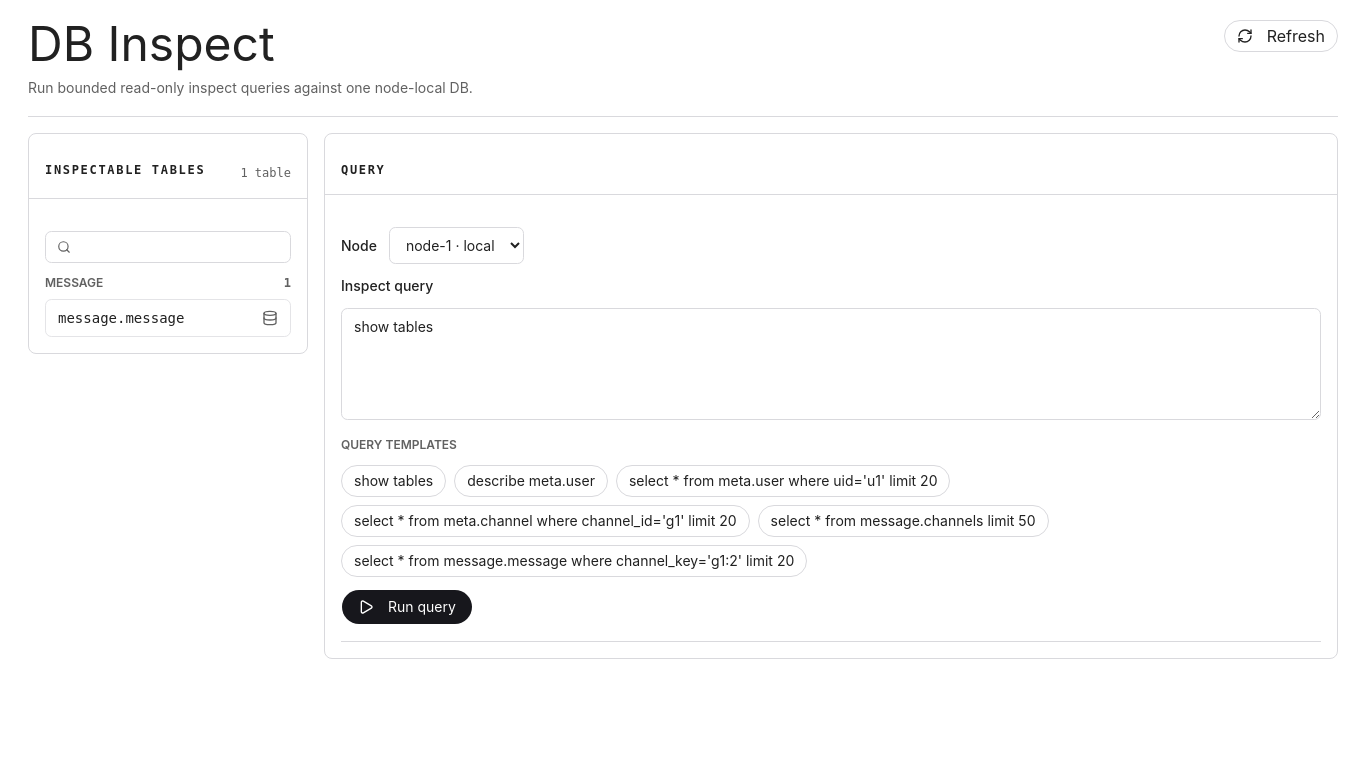
Test: describes a selected table
What coordinates should you click on to do the following:
click the button with aria-label "Inspect message.message"
I would click on:
 (168, 318)
Its box is [45,299,291,337].
(page scrolled)
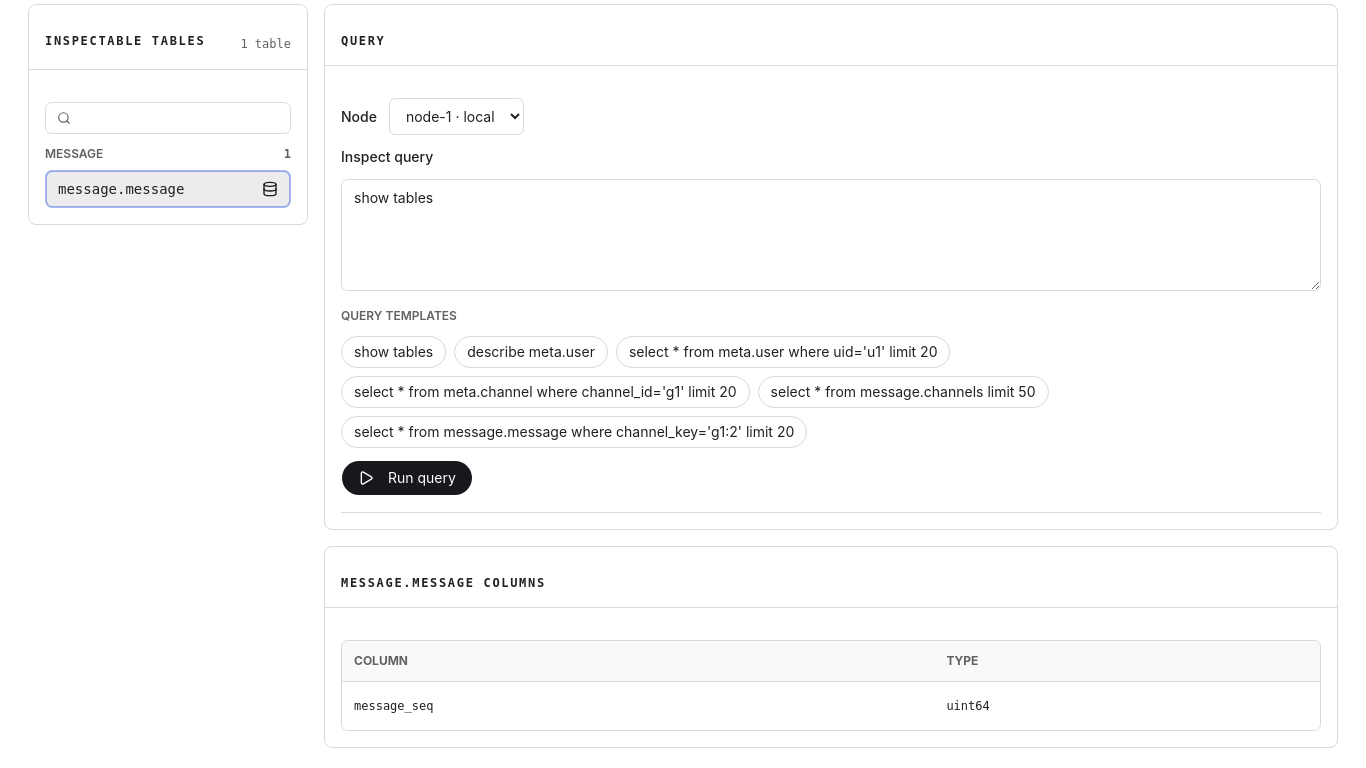
expect the text "message_seq" is shown: met, box [342,682,934,730]
expect the text "uint64" is shown: met, box [934,682,1320,730]
